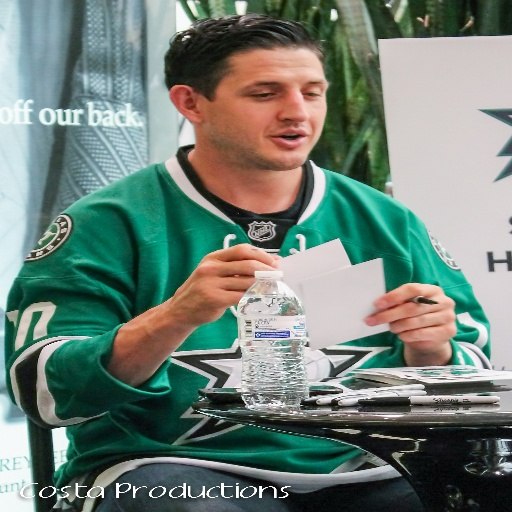hand: (171, 241, 282, 325), (366, 277, 453, 335)
